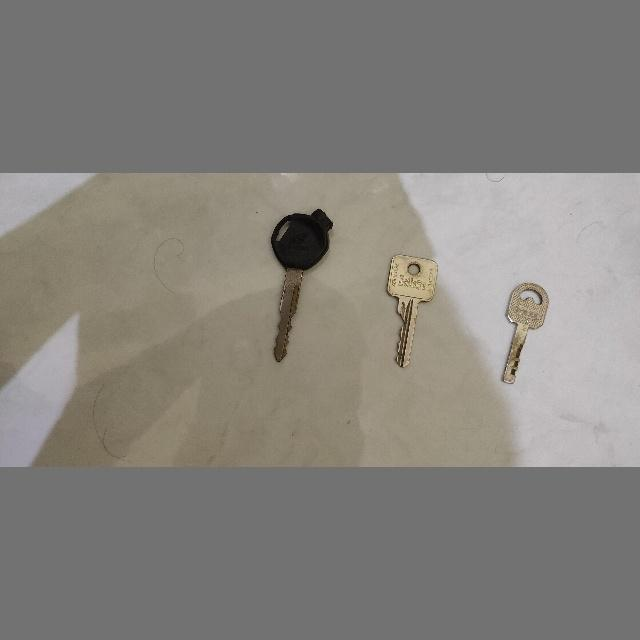Keys: (268, 207, 334, 365), (384, 252, 441, 370), (496, 282, 552, 386)
